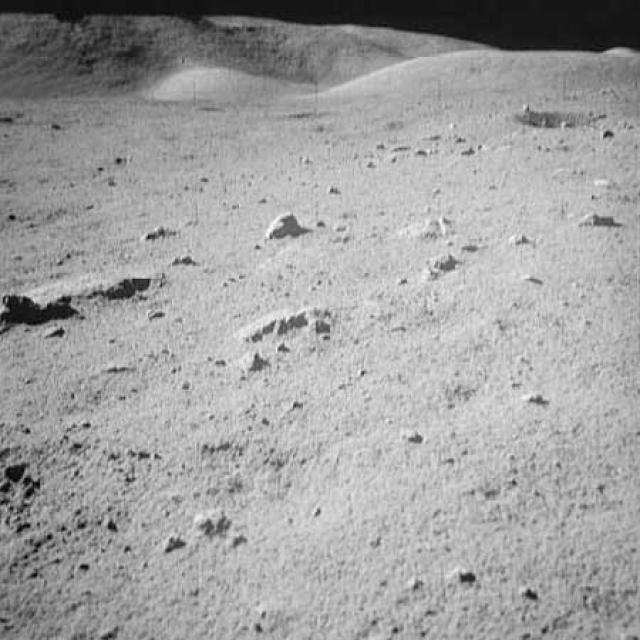artifact: (512, 106, 608, 130)
rock: (0, 264, 164, 317), (234, 300, 334, 343), (193, 499, 232, 535), (418, 247, 458, 280), (261, 210, 298, 239), (580, 208, 616, 231)
